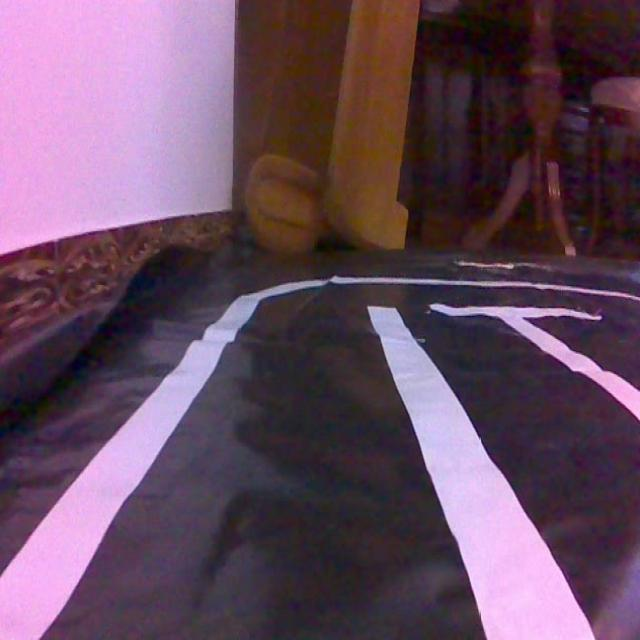LineaCarril: (0, 297, 258, 639), (369, 307, 594, 639), (430, 306, 640, 421)
